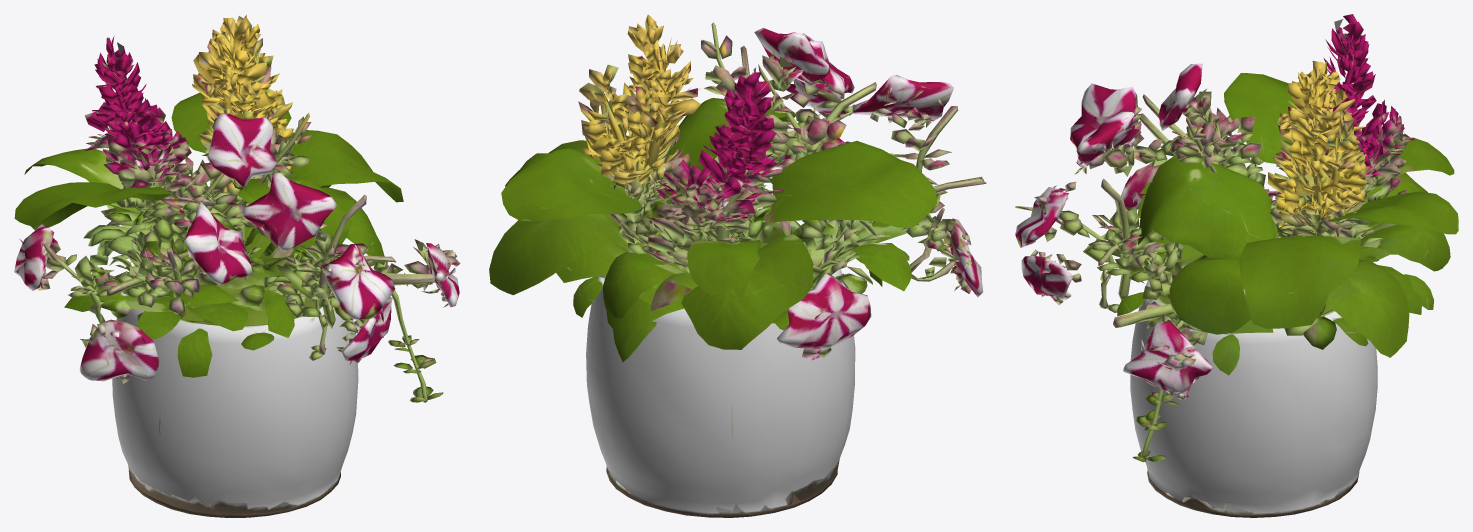
File: Meshy_AI_Summer_Stripes_0926060803_texture.fbx
The picture shows the model from 3 angles, left to right: view 1: azimuth 30°, elevation 25°; view 2: azimuth 150°, elevation 25°; view 3: azimuth 270°, elevation 25°; orthographic projection. The views are drawn at different scales.
Parts seen in each view (by area): view 1: Mesh_0; view 2: Mesh_0; view 3: Mesh_0.
Boxes of the visible parts, bbox=[...] form: Mesh_0: bbox=[14, 14, 460, 517]; Mesh_0: bbox=[489, 14, 986, 517]; Mesh_0: bbox=[1015, 14, 1458, 517].
Size of the model in its own units: 95.9 by 100 by 94.92.
Materials: 1 (1 with a texture image).
